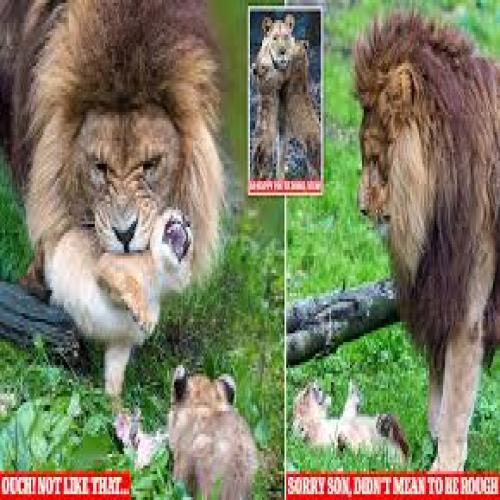lion-endangered: (0, 0, 230, 383), (354, 19, 500, 475), (31, 204, 202, 353), (167, 362, 267, 500), (291, 376, 410, 464), (288, 37, 324, 178), (247, 38, 278, 187), (258, 11, 297, 67)
